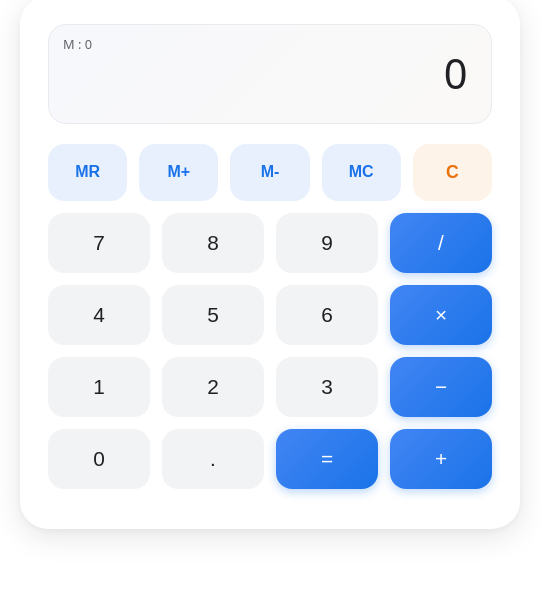
it: Calculator › shows error when pressing equals on incomplete expression
Click the button "8": (213, 243) [162,213,264,273]
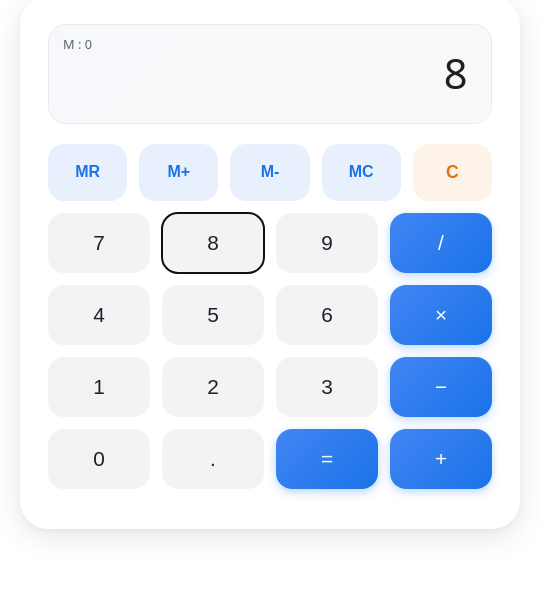
Click the button named "add": (441, 459) [390,429,492,489]
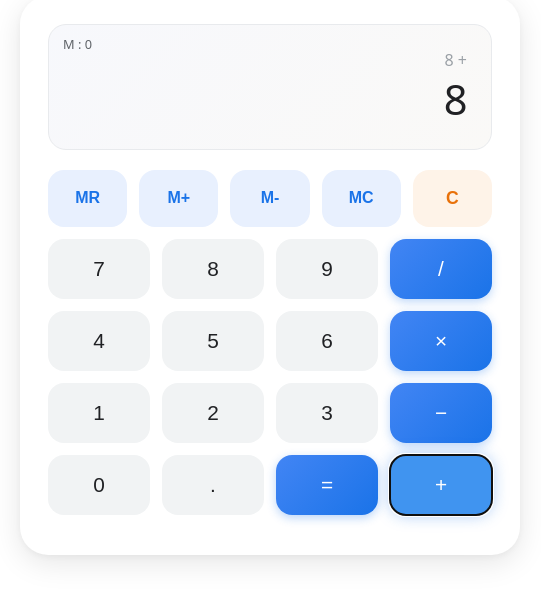
Click the button "9": (327, 269) [276,239,378,299]
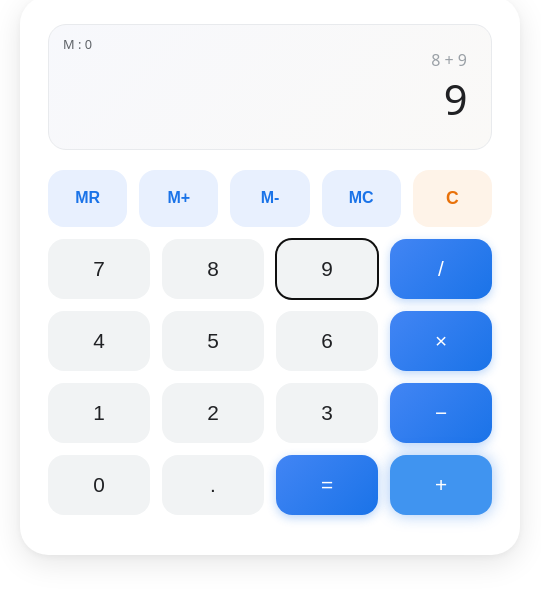
Click the button named "subtract": (441, 413) [390,383,492,443]
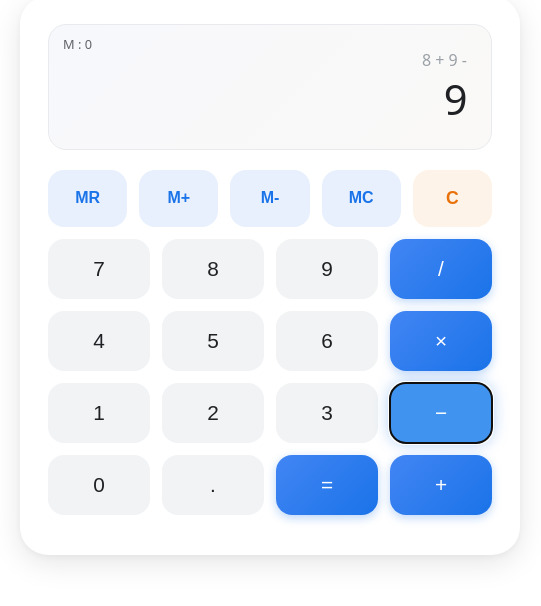
Click the button named "equals": (327, 485) [276,455,378,515]
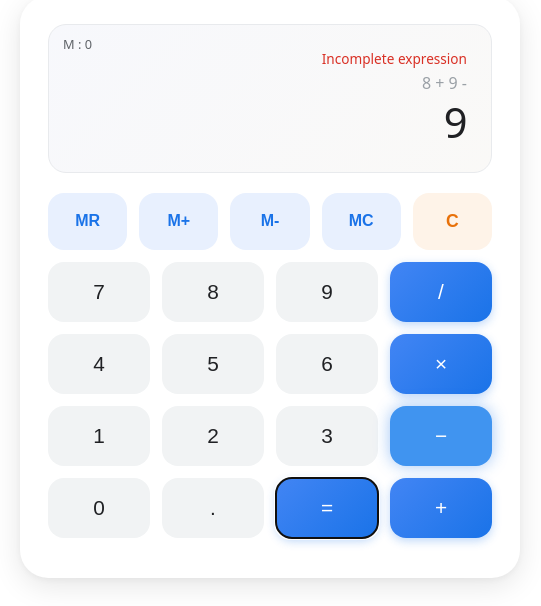
Check: the text "9" is shown, box [444,98,467,148]
Check: the text "Incomplete expression" is shown, box [322,49,467,68]
